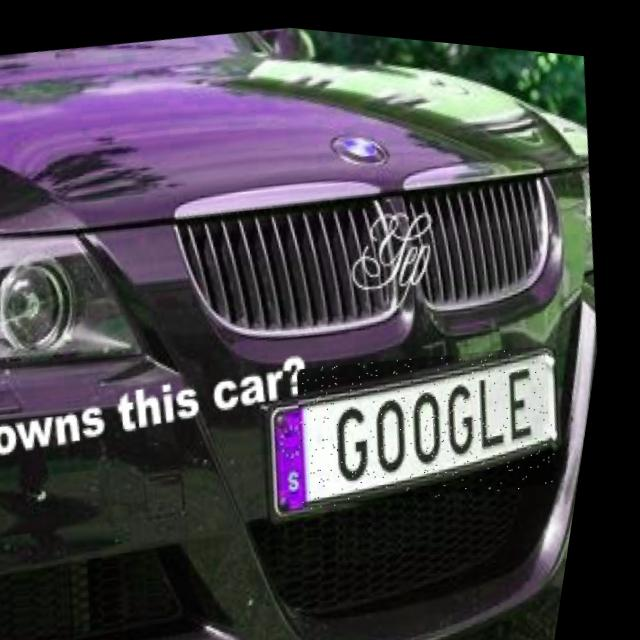license_plate: (292, 315, 585, 521)
